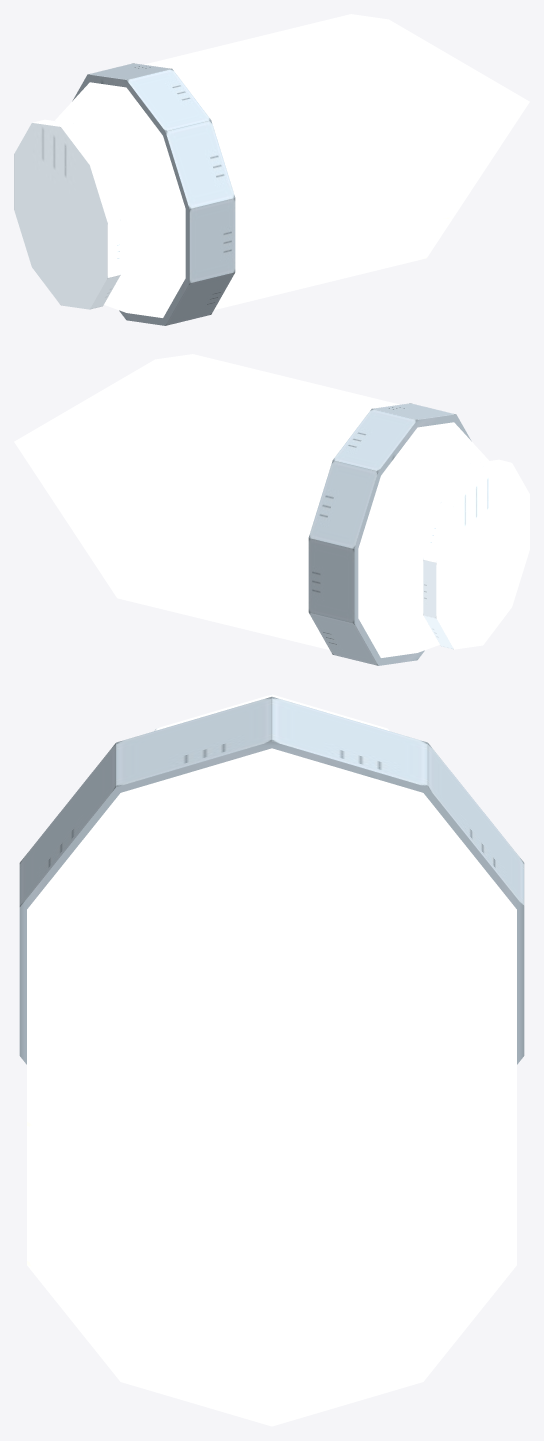
The model's file is bullet.glb.
3 renders of one model, top to bottom at view 1: azimuth 30°, elevation 25°; view 2: azimuth 150°, elevation 25°; view 3: azimuth 270°, elevation 25°, orthographic. The views are drawn at different scales.
Visible parts, largest first — view 1: bullet; view 2: bullet; view 3: bullet.
Boxes of the visible parts, x1=… form: bullet: x1=14, y1=14, x2=529, y2=325; bullet: x1=14, y1=354, x2=529, y2=665; bullet: x1=19, y1=694, x2=524, y2=1426.
Size of the model in its own units: 0.143 by 0.07 by 0.0666.
3 materials, 3 textured.
